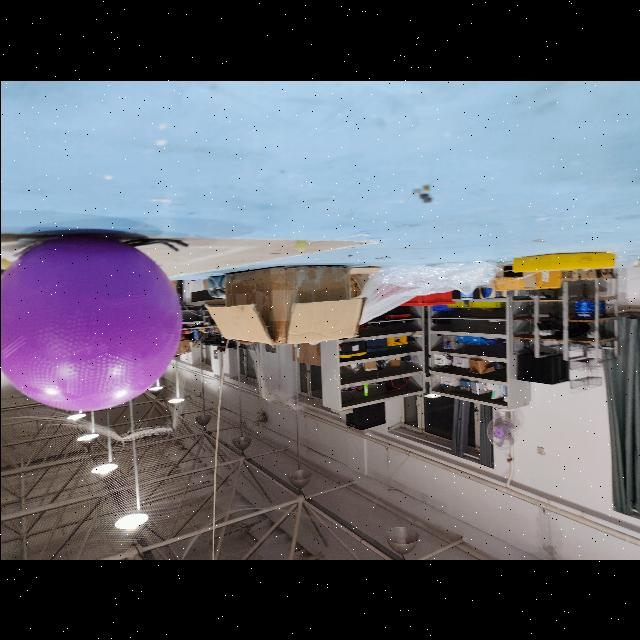P: (0, 233, 182, 415)
